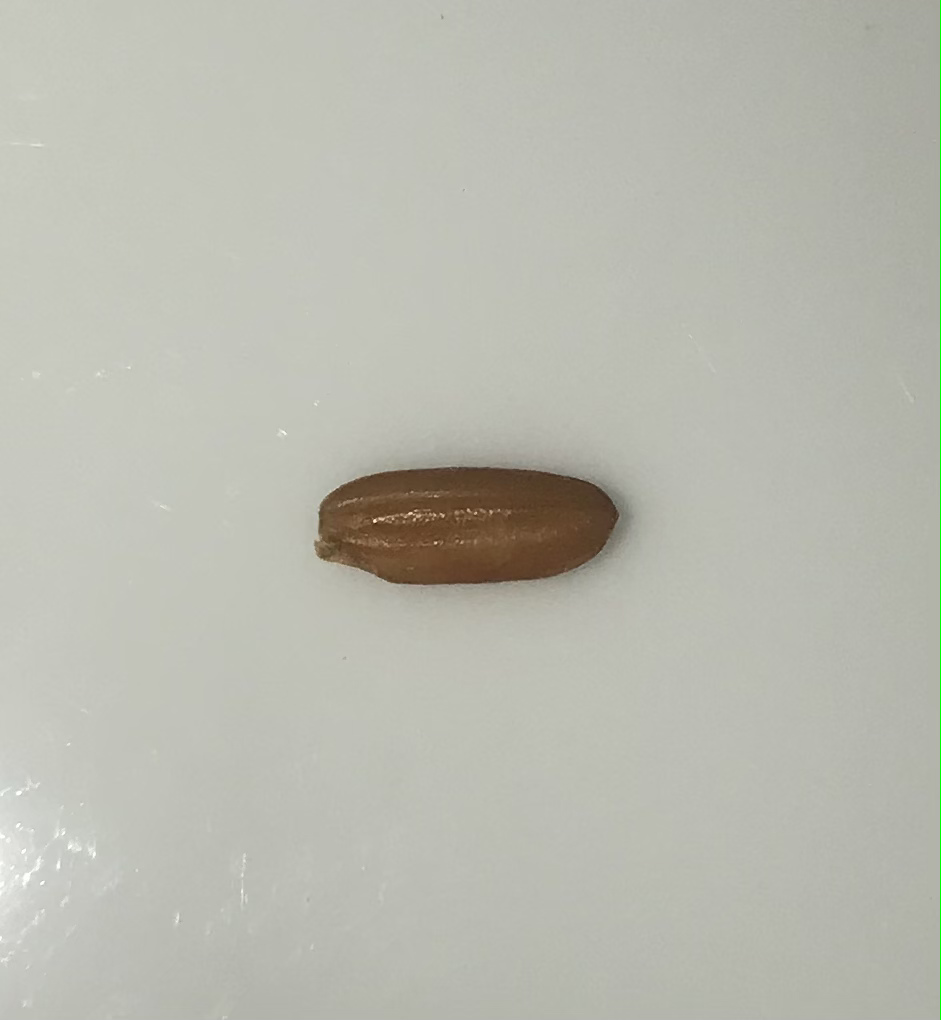Gao Lut Dien Bien: (291, 436, 645, 619)
